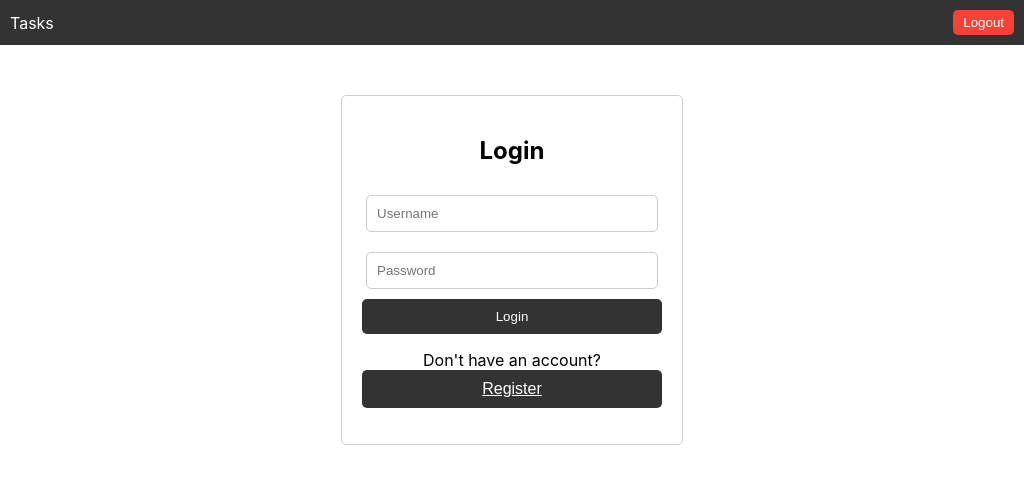
Scenario: AuthPage › ✅ Success Register
Click the button "Register". click: (512, 389)
box: [362, 370, 662, 408]
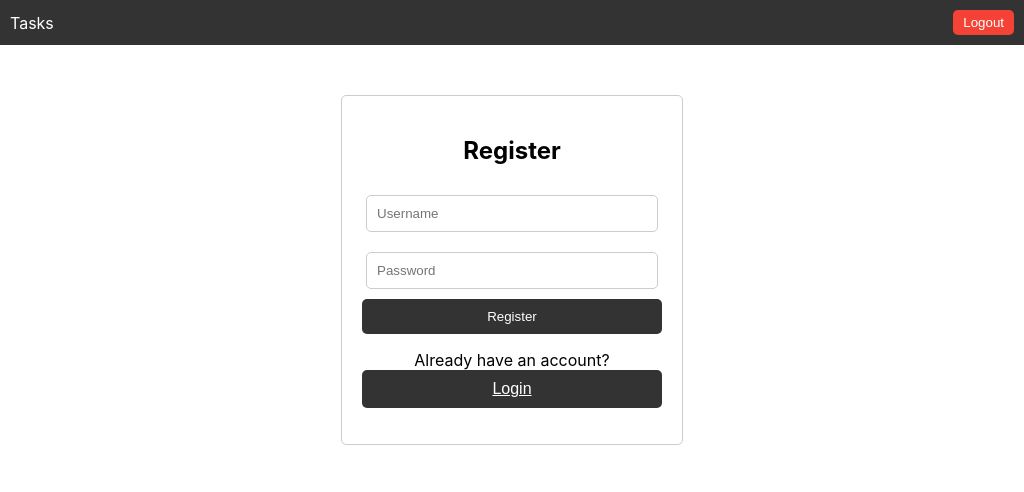
Type "admina" into the field with placeholder "Username". click: (512, 213)
box: [366, 195, 658, 232]
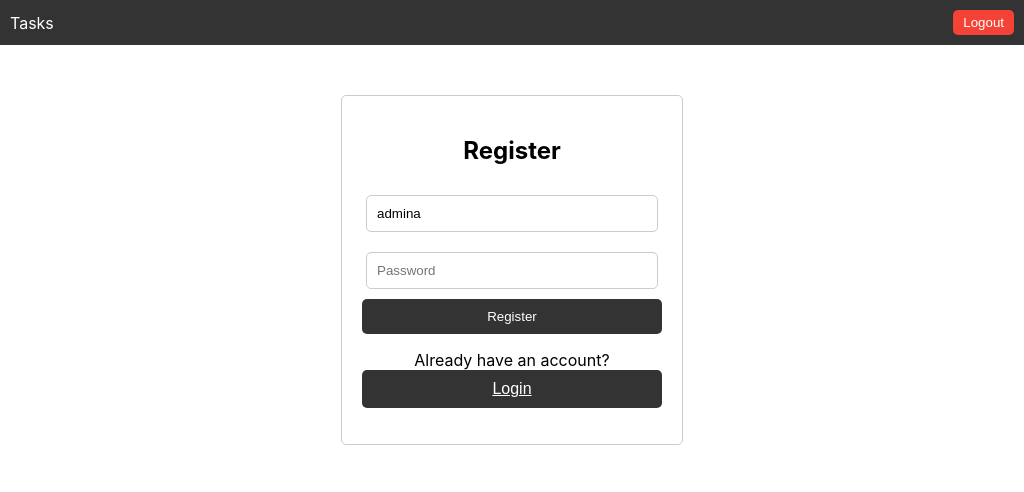
Type "adminb" into the password field with placeholder "Password". click: (512, 270)
box: [366, 252, 658, 289]
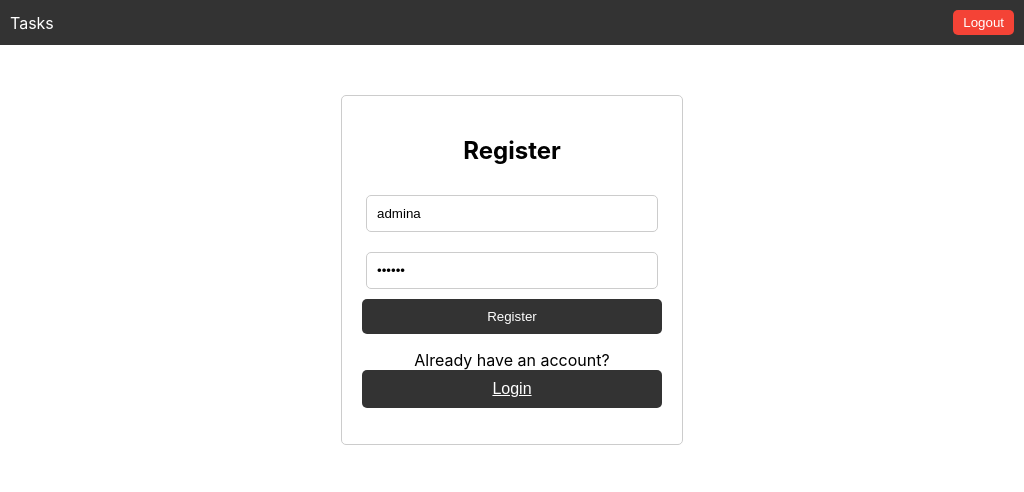
Click the button titled "btnSubmit". click: (512, 316)
box: [362, 299, 662, 334]
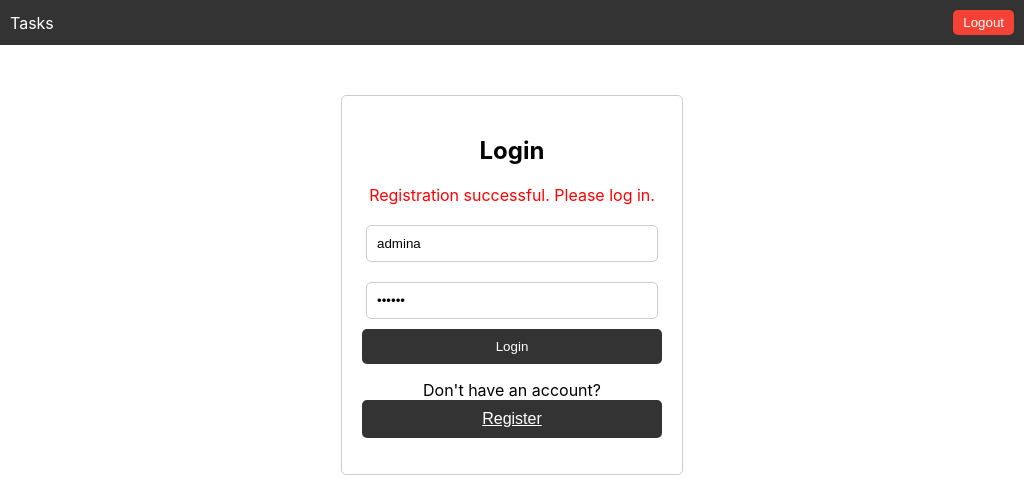
Check: the text "Registration successful. Please log in." is shown, box [362, 185, 662, 205]
